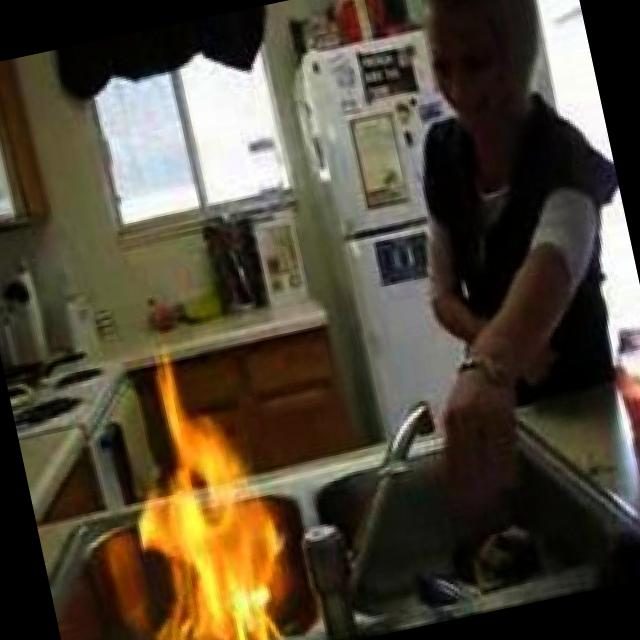fire: (105, 352, 307, 640)
